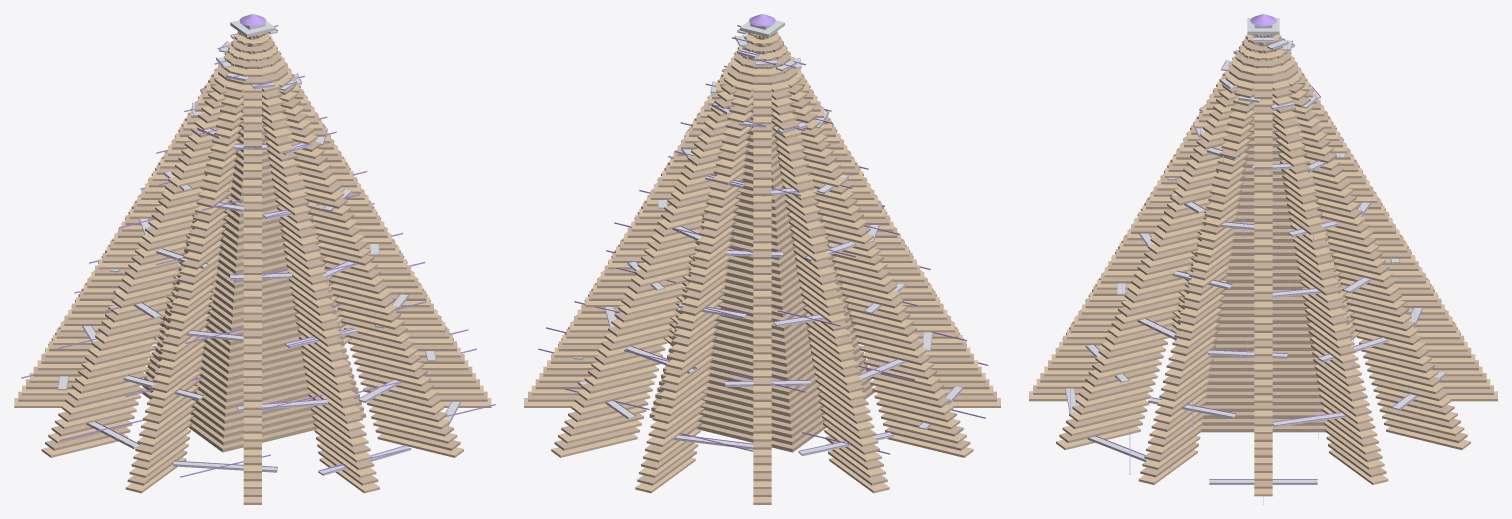
Rendered from tower_of_babel_5000m.gltf.
The picture shows the model from 3 angles, left to right: view 1: azimuth 30°, elevation 25°; view 2: azimuth 150°, elevation 25°; view 3: azimuth 270°, elevation 25°; orthographic projection.
Size of the model in its own units: 5975 by 5173 by 5714.
